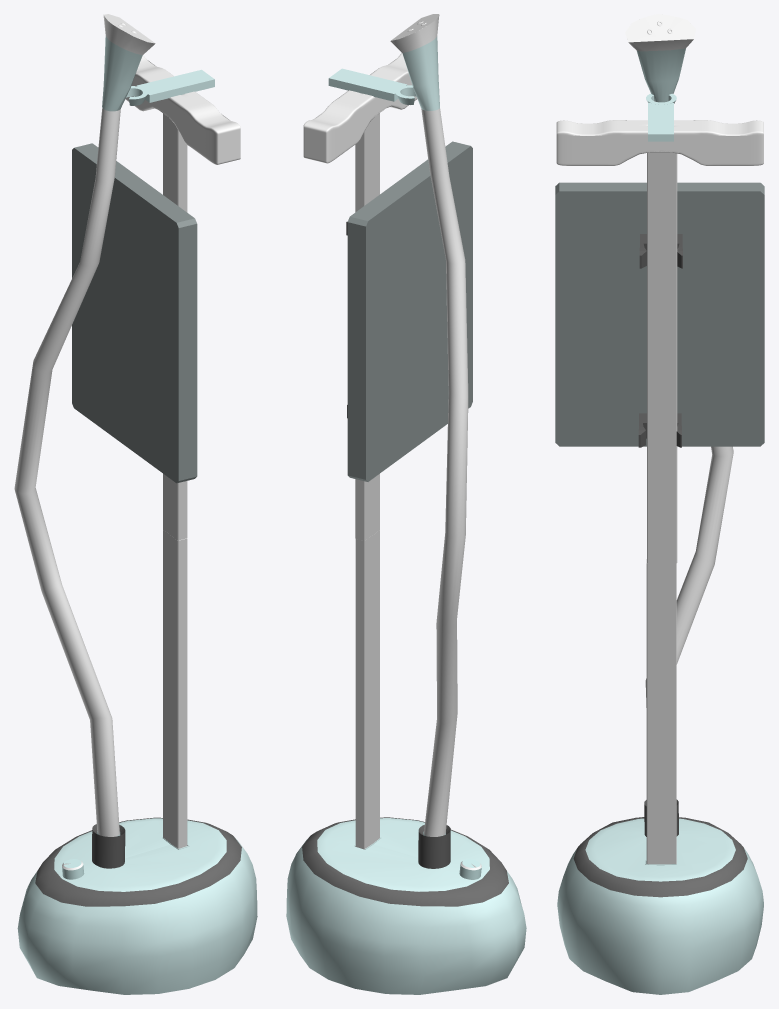
Rendered from iron5.fbx.
The picture shows the model from 3 angles, left to right: view 1: azimuth 30°, elevation 25°; view 2: azimuth 150°, elevation 25°; view 3: azimuth 270°, elevation 25°; orthographic projection. The views are drawn at different scales.
Parts seen in each view (by area): view 1: pCylinder8, pCube12, pCylinder6, Iron1_pCube1, pCube13, Iron1_pCube2; view 2: pCylinder8, pCube12, pCylinder6, Iron1_pCube1, pCube13, Iron1_pCube2; view 3: pCube12, pCylinder8, Iron1_pCube2, Iron1_pCube1, pCube13, pCylinder6.
Boxes of the visible parts, left/top/right/bottom form: pCylinder8: left=17, top=817, right=257, bottom=994; pCube12: left=72, top=143, right=197, bottom=483; pCylinder6: left=14, top=14, right=155, bottom=868; Iron1_pCube1: left=163, top=530, right=187, bottom=848; pCube13: left=125, top=55, right=240, bottom=164; Iron1_pCube2: left=163, top=113, right=187, bottom=540; pCylinder8: left=286, top=817, right=526, bottom=994; pCube12: left=346, top=141, right=472, bottom=481; pCylinder6: left=390, top=14, right=468, bottom=868; Iron1_pCube1: left=355, top=530, right=379, bottom=849; pCube13: left=303, top=53, right=417, bottom=163; Iron1_pCube2: left=355, top=113, right=379, bottom=540; pCube12: left=555, top=182, right=764, bottom=447; pCylinder8: left=557, top=817, right=763, bottom=994; Iron1_pCube2: left=647, top=152, right=677, bottom=563; Iron1_pCube1: left=646, top=559, right=676, bottom=864; pCube13: left=556, top=93, right=763, bottom=165; pCylinder6: left=625, top=14, right=733, bottom=836.
Size of the model in its own units: 3.25 by 13.13 by 2.72.
